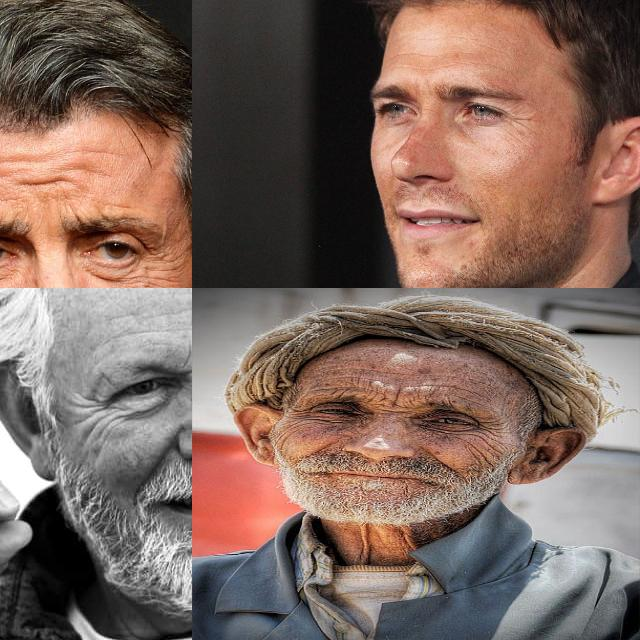crows_feet: (139, 243, 181, 284), (81, 397, 119, 435), (508, 106, 532, 134), (285, 405, 317, 422), (475, 417, 501, 437)
forehead: (13, 171, 63, 193), (410, 379, 472, 396), (332, 362, 388, 377), (114, 322, 160, 340), (412, 60, 460, 76), (326, 373, 377, 386), (0, 150, 28, 170), (163, 299, 192, 318), (326, 384, 352, 400)
frown_line: (67, 203, 87, 227), (374, 405, 412, 417), (368, 396, 392, 412), (386, 384, 403, 405), (180, 341, 192, 364)
gummy_smile: (146, 428, 174, 474), (304, 442, 336, 456), (421, 450, 446, 466)
masseter: (466, 448, 497, 470), (272, 428, 292, 447)
